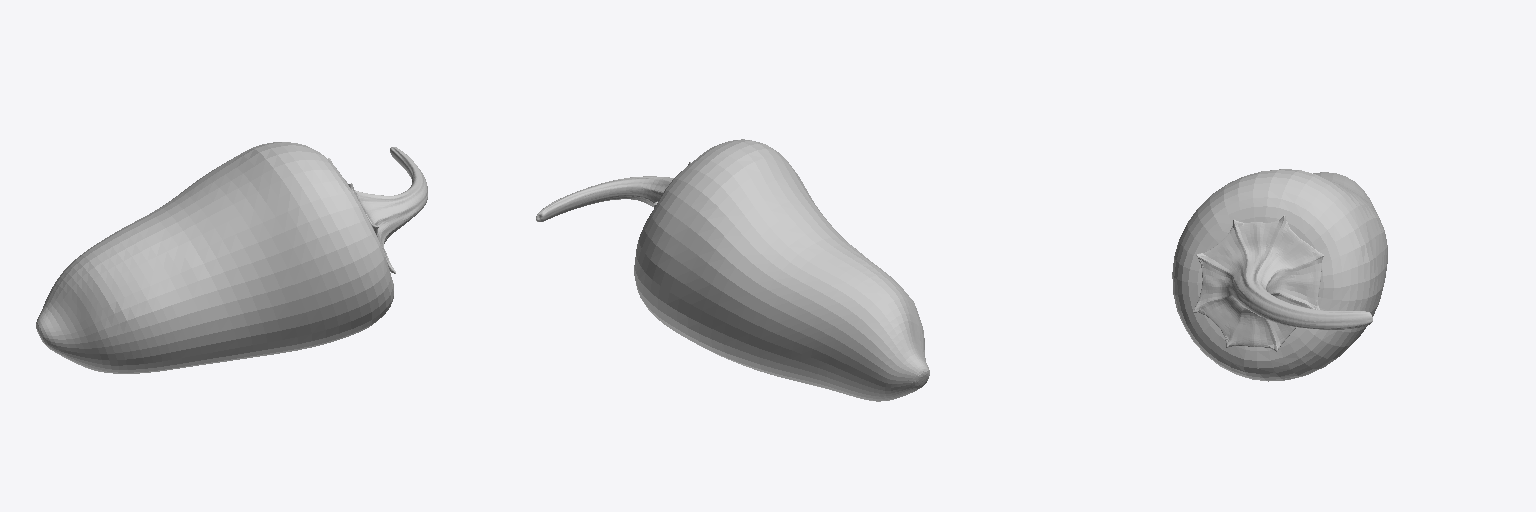
Rendered from Jalapeno_origin.obj.
3 renders of one model, left to right at view 1: azimuth 30°, elevation 25°; view 2: azimuth 150°, elevation 25°; view 3: azimuth 270°, elevation 25°, orthographic.
Parts seen in each view (by area): view 1: Jalapeno_pivot.000; view 2: Jalapeno_pivot.000; view 3: Jalapeno_pivot.000.
Part boxes in pixels (bbox=[...]): Jalapeno_pivot.000: bbox=[36, 142, 427, 373]; Jalapeno_pivot.000: bbox=[536, 139, 929, 401]; Jalapeno_pivot.000: bbox=[1172, 169, 1387, 381].
Size of the model in its own units: 2.01 by 0.9998 by 0.9973.